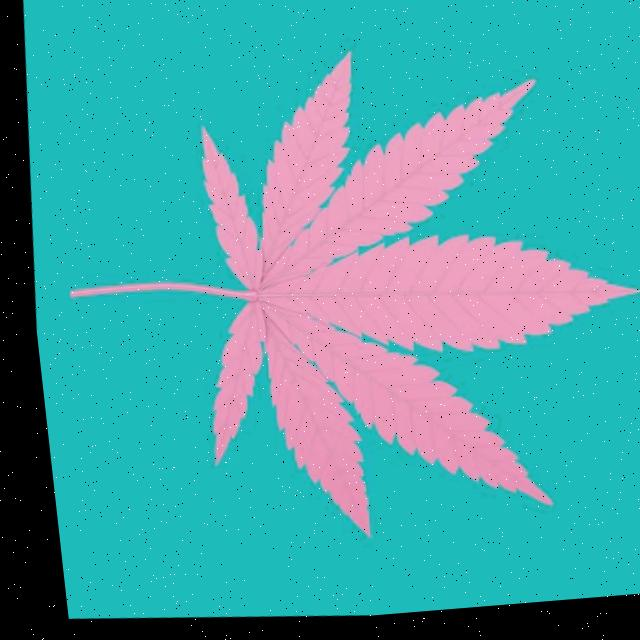cannabis: (65, 53, 638, 535)
